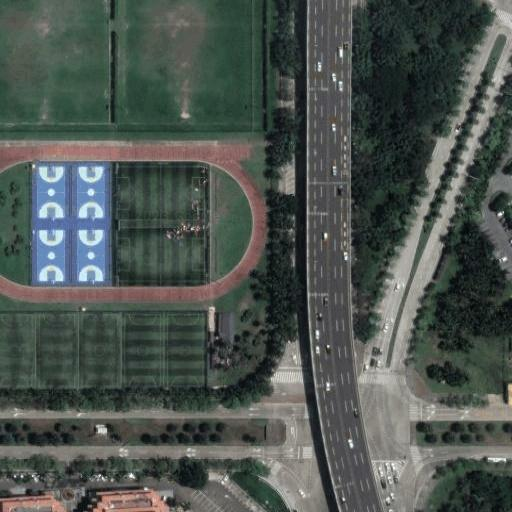building: (87, 490, 171, 512), (0, 494, 61, 512), (214, 309, 232, 342)
